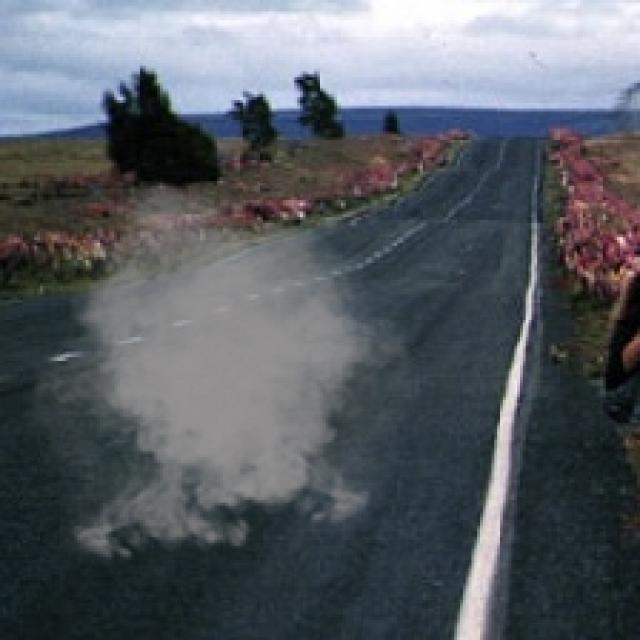smoke: (11, 180, 432, 571)
